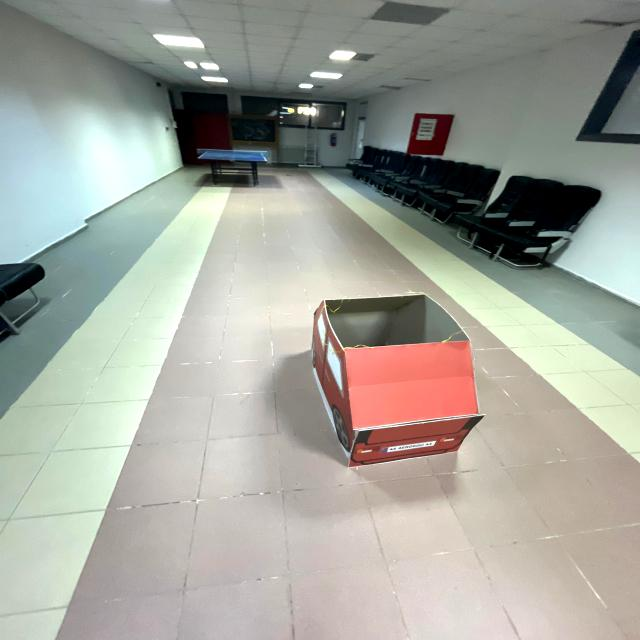red_car: (284, 287, 501, 479)
